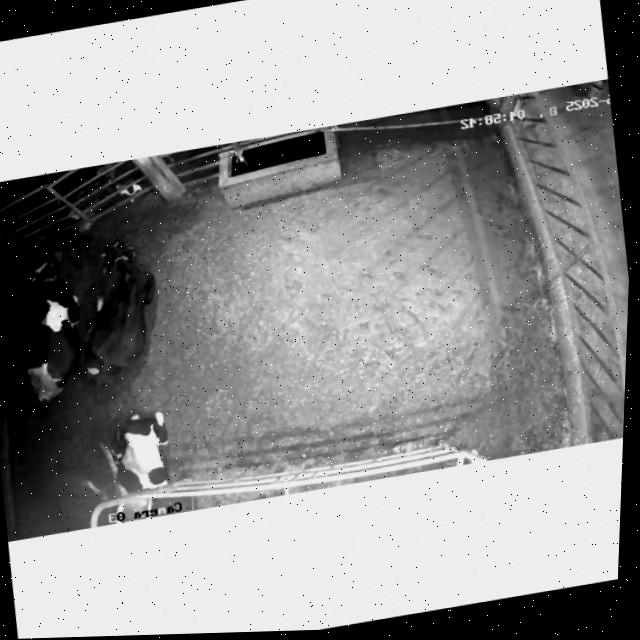lay: (63, 229, 176, 386), (0, 238, 89, 419), (81, 398, 192, 520)
